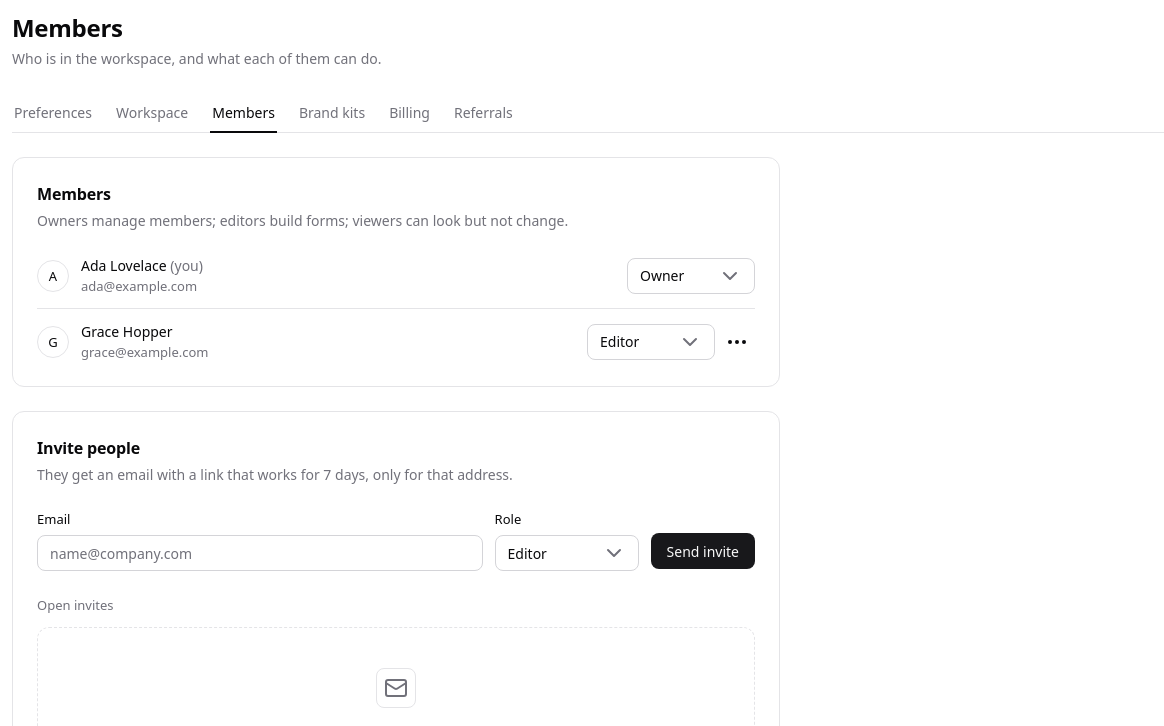
it: MembersPage for owners › explains why the only owner cannot step down
Click the dropdown named "Role of Ada Lovelace": x=691, y=276 [627,258,755,294]
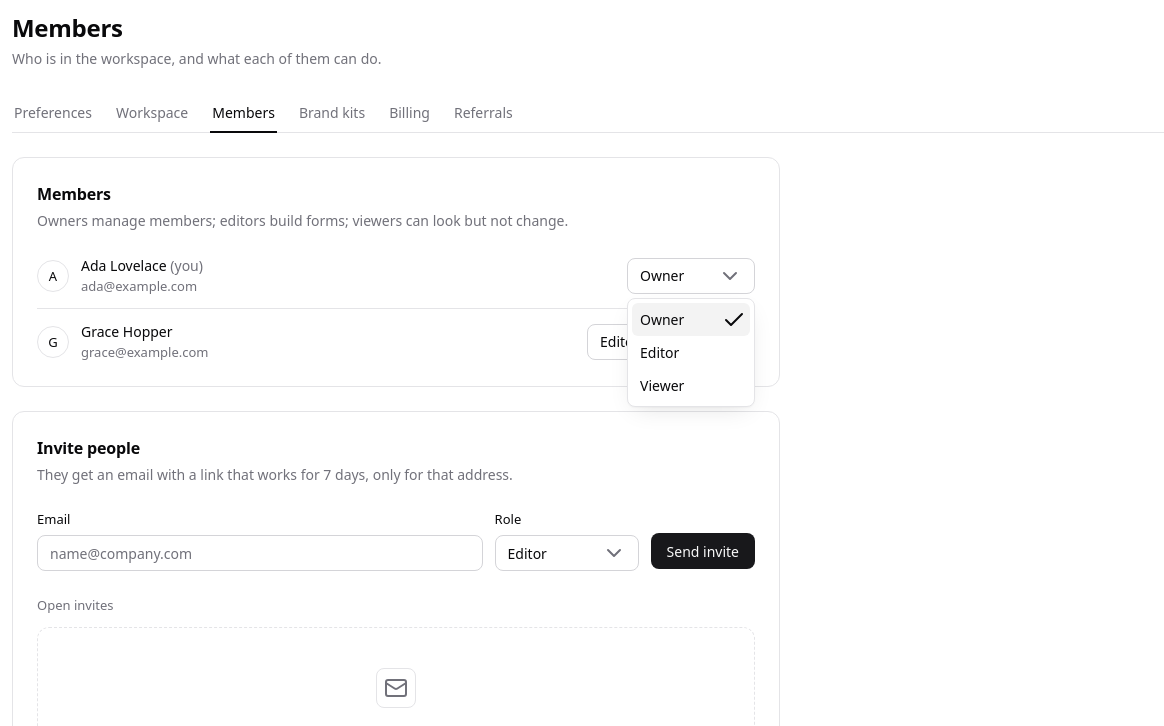
Click the option "Editor": x=660, y=352 [640,343,679,362]
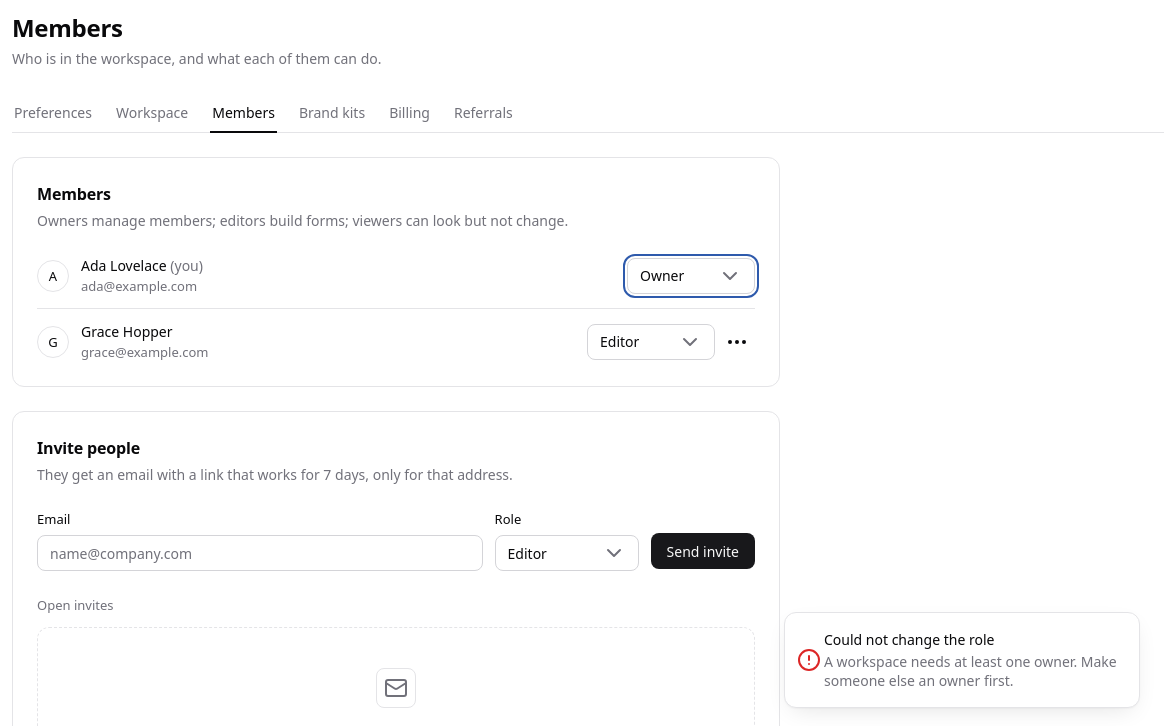
Expected: the text "A workspace needs at least one owner. Make someone else an owner first." is shown, [824,652,1123,691]
